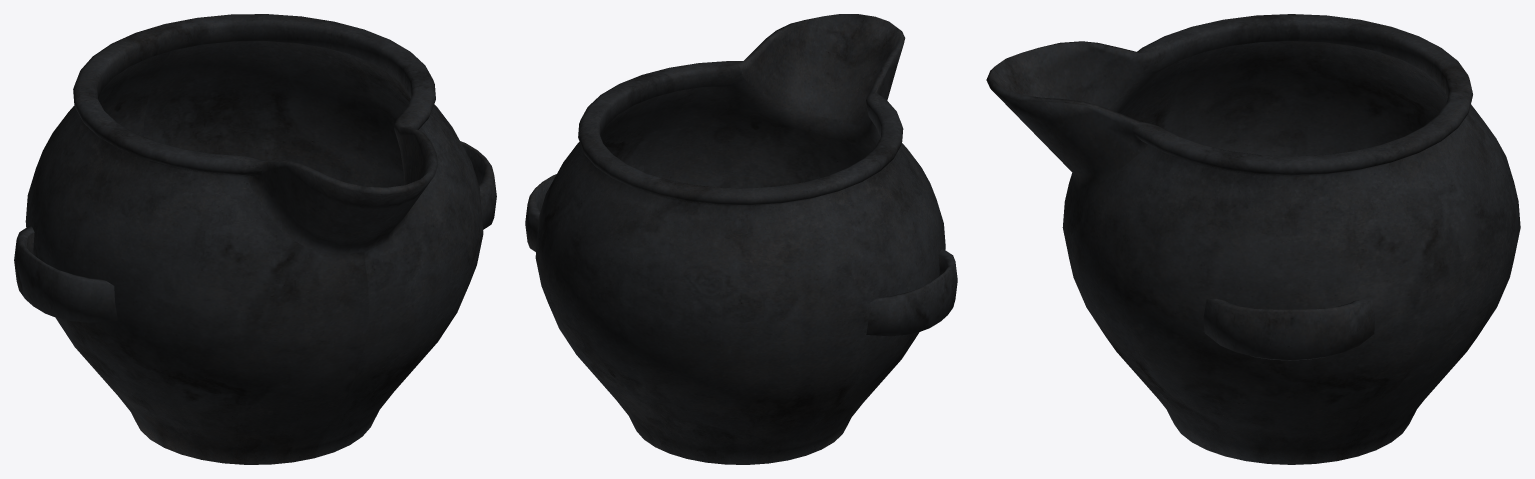
Rendered from jar_with_a_spout.glb.
3 renders of one model, left to right at view 1: azimuth 30°, elevation 25°; view 2: azimuth 150°, elevation 25°; view 3: azimuth 270°, elevation 25°, orthographic. The views are drawn at different scales.
Parts seen in each view (by area): view 1: Jar_With_A_Spout; view 2: Jar_With_A_Spout; view 3: Jar_With_A_Spout.
Boxes of the visible parts, x1,y1,x2,y2 form: Jar_With_A_Spout: (14,14,496,464); Jar_With_A_Spout: (525,14,957,464); Jar_With_A_Spout: (986,14,1520,464).
Size of the model in its own units: 0.5132 by 0.3746 by 0.5296.
Materials: 1 (1 with a texture image).
